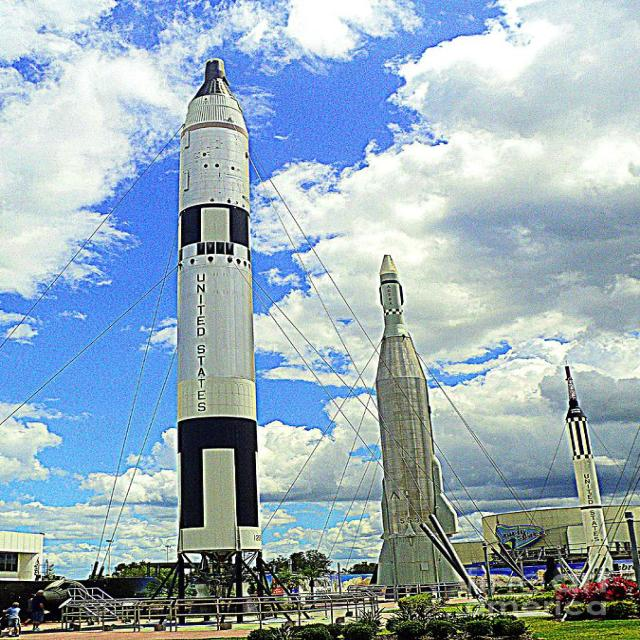large_debris: (311, 32, 630, 374), (4, 0, 191, 280), (4, 347, 87, 498), (275, 0, 425, 69)
rocket: (171, 60, 286, 566), (349, 243, 474, 588)
